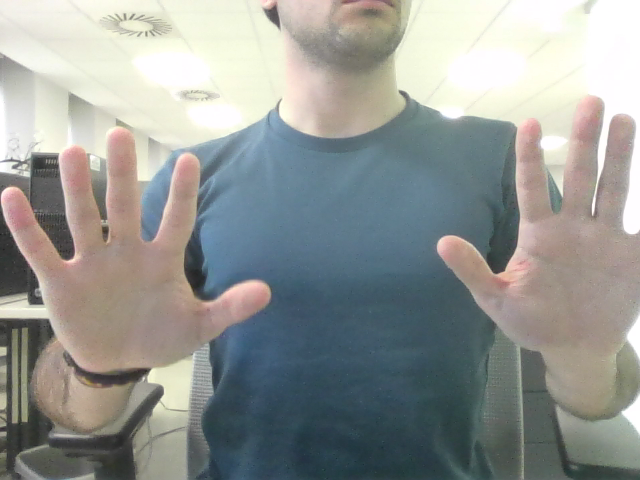Manos Arriba: (45, 121, 634, 335)
